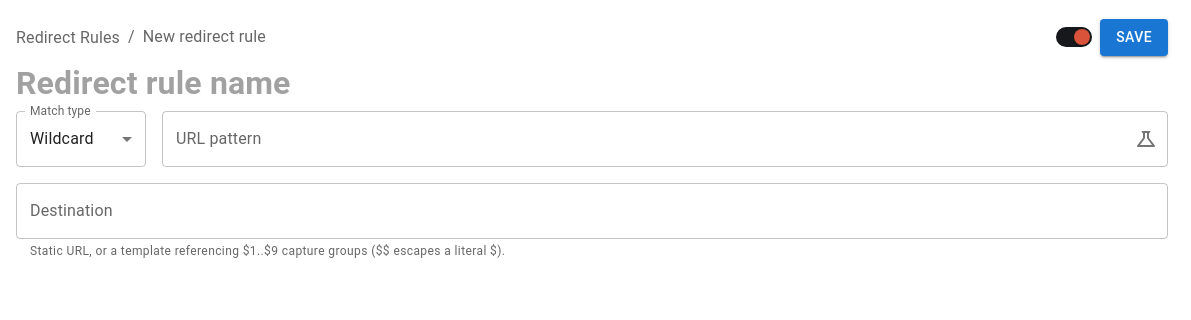
Test: RedirectRuleEditorPage › create mode › shows validation errors and does not save when the draft is invalid
The width and height of the screenshot is (1191, 320).
What coordinates should you click on to do the following:
click the button "Save"
I would click on:
 (1134, 37)
Its box is [1100,19,1168,56].
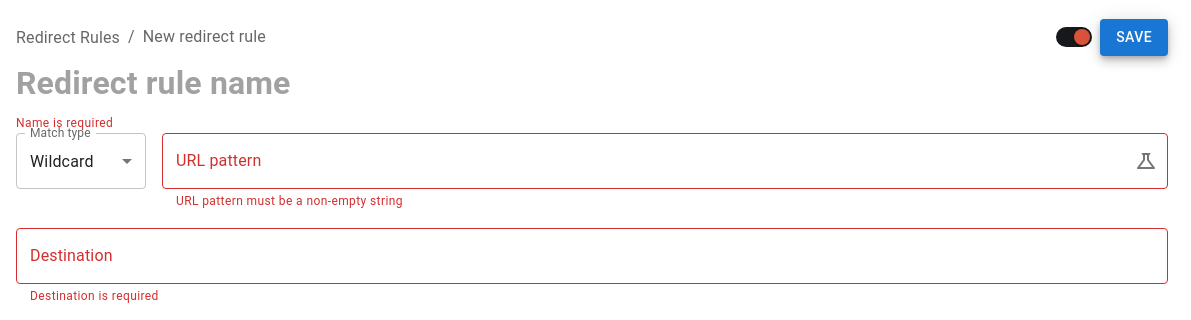
Expected: the text "Name is required" is shown, [16,116,113,130]
